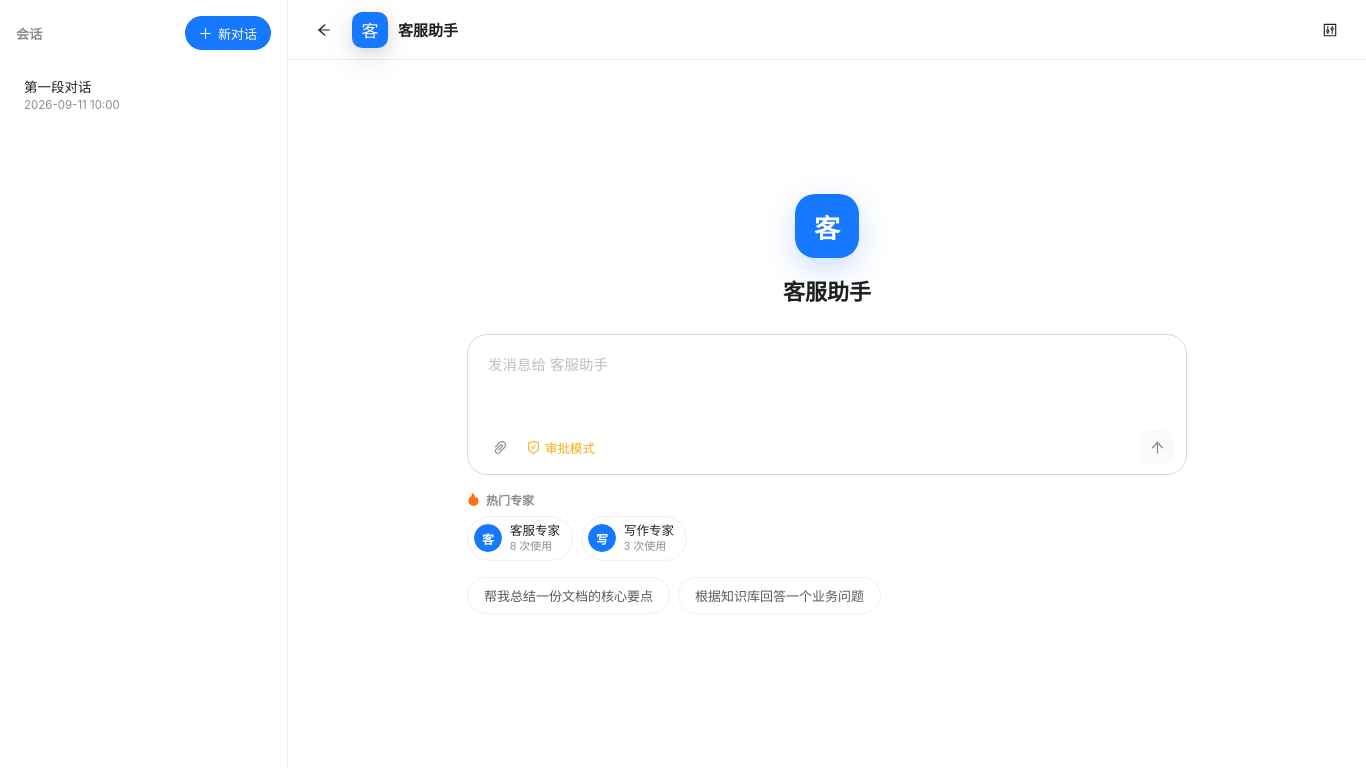
AppChat（Agent 应用对话页） › 审批模式：审批策略自动放行的插件与沙箱工具不展示审批卡
Expected: the text "第一段对话" is shown, [24,76,92,96]
Type "北京天气如何并算一道题" into the text box with placeholder "发消息给 客服助手" at (829, 389), box [484,348,1174,430]
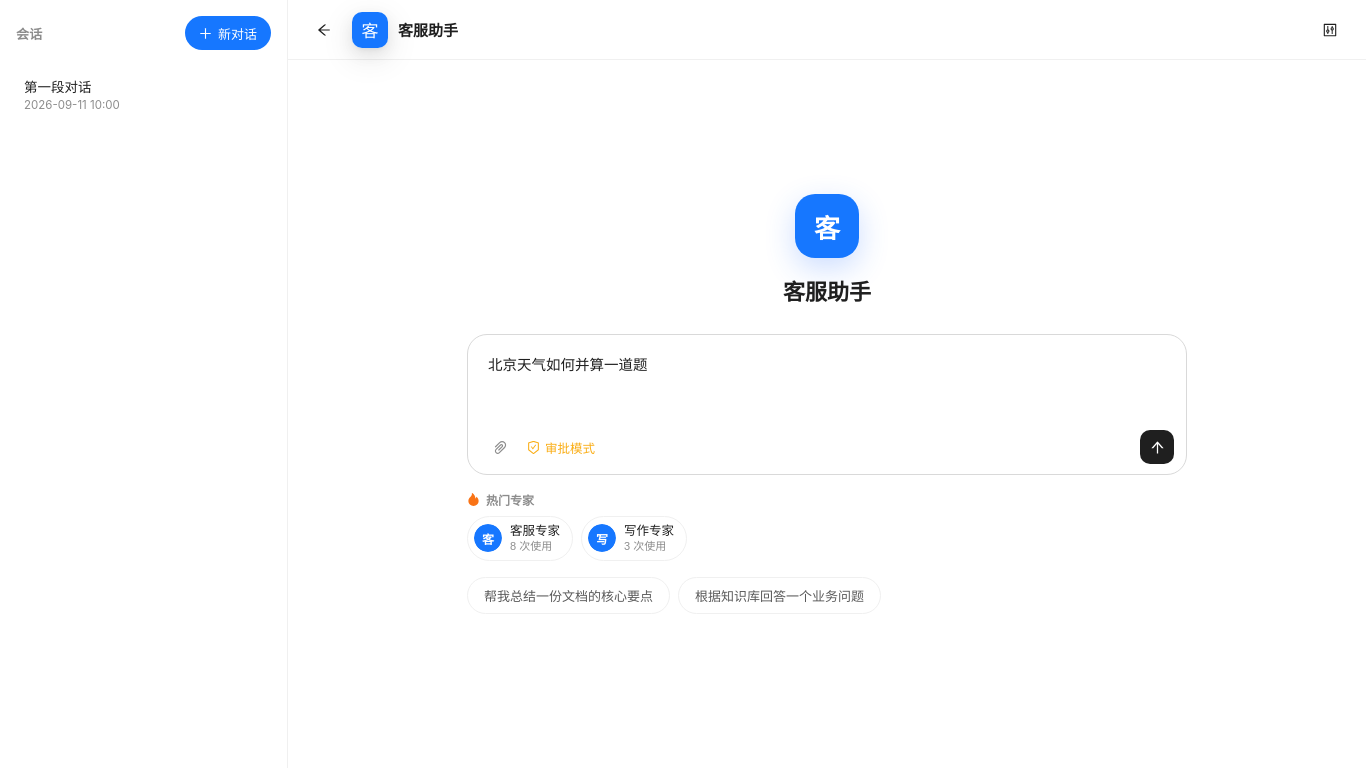
Click the button named "发送" at (1157, 447), box [1140,430,1174,464]
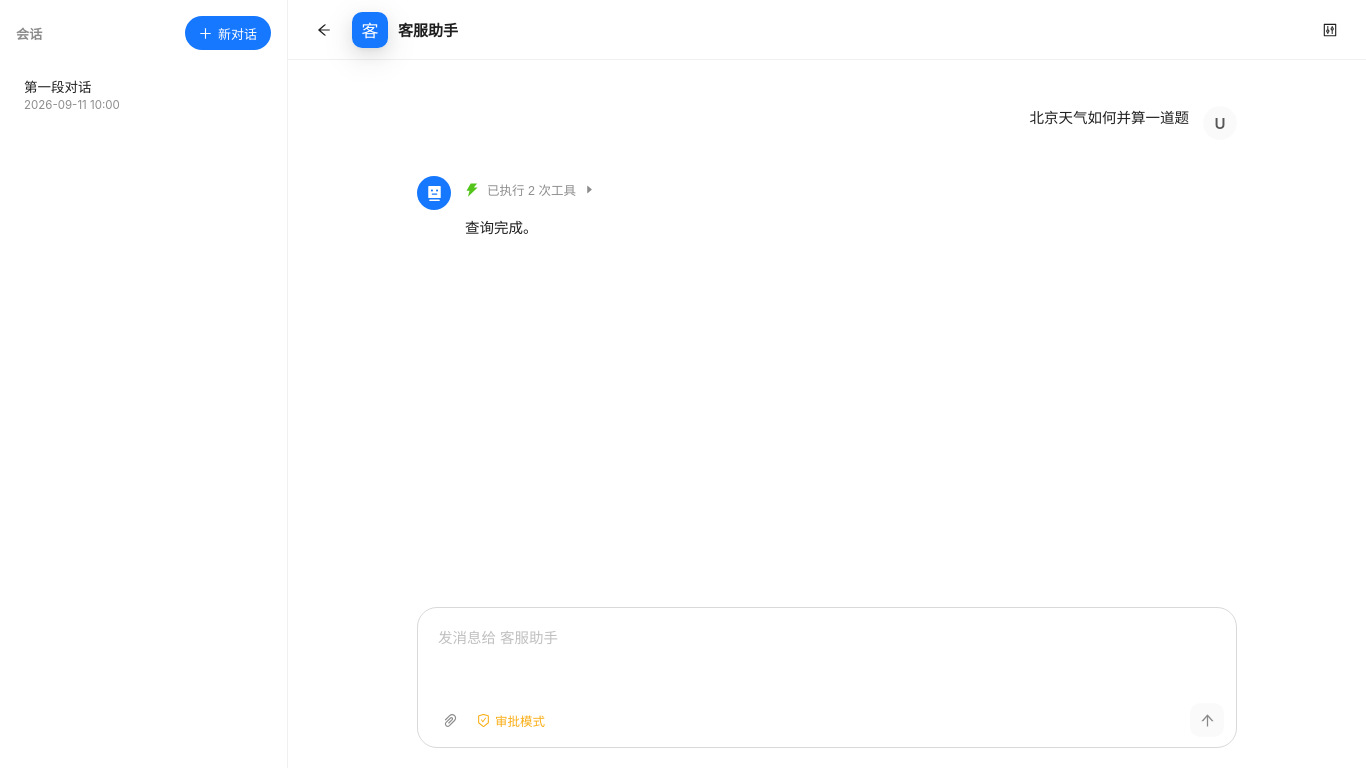
Expected: the button "已执行 2 次工具" is shown
Note: 展开折叠组后可见明细行
Click the button "已执行 2 次工具" at (530, 190), box [457,176,603,203]
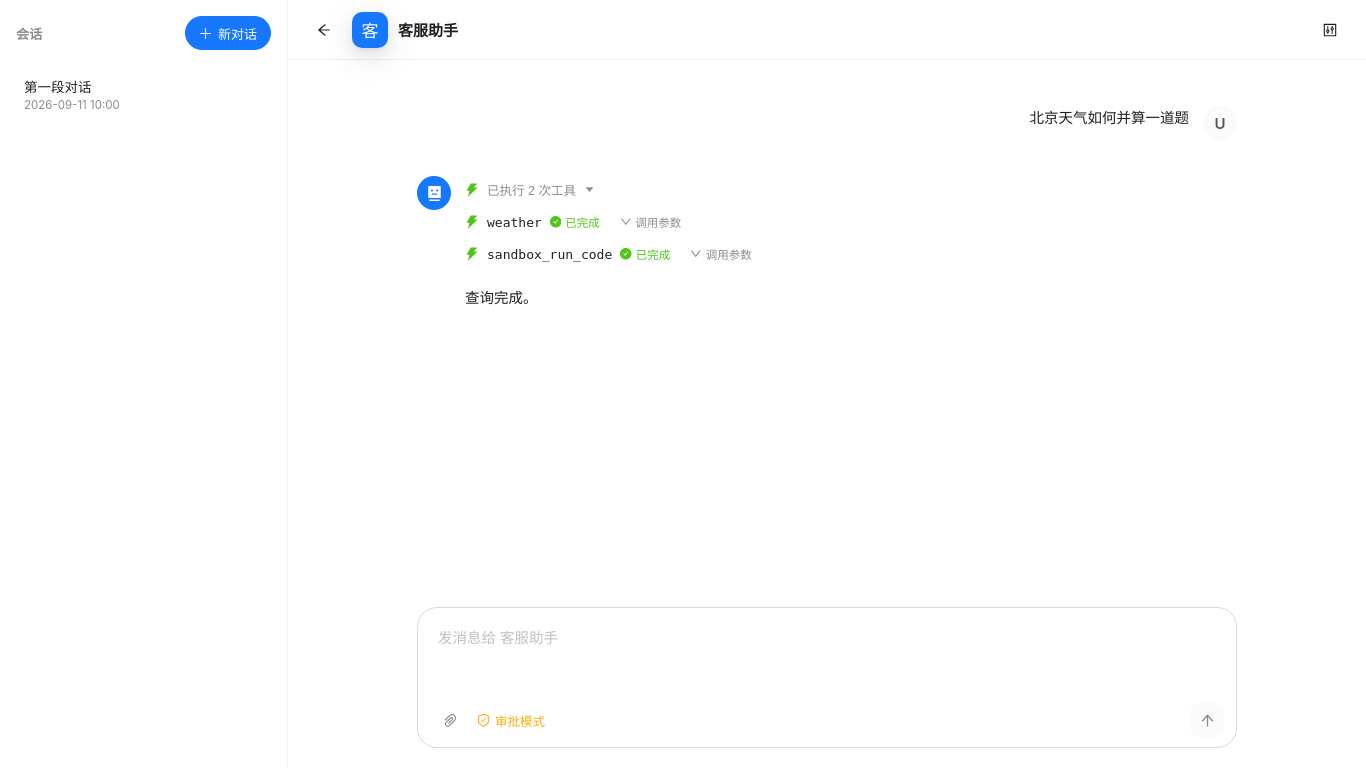
Expected: the text "weather" is shown, [487,214,542,230]
Expected: the text "sandbox_run_code" is shown, [487,246,612,262]
